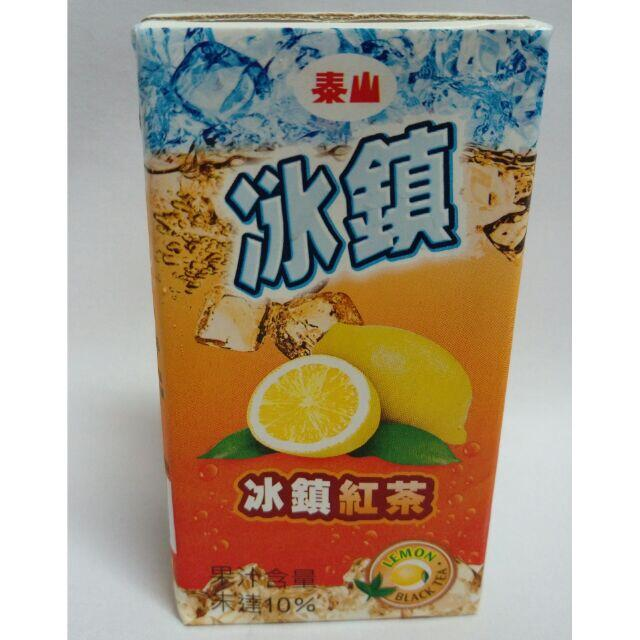鋁箔包: (120, 2, 557, 631)
